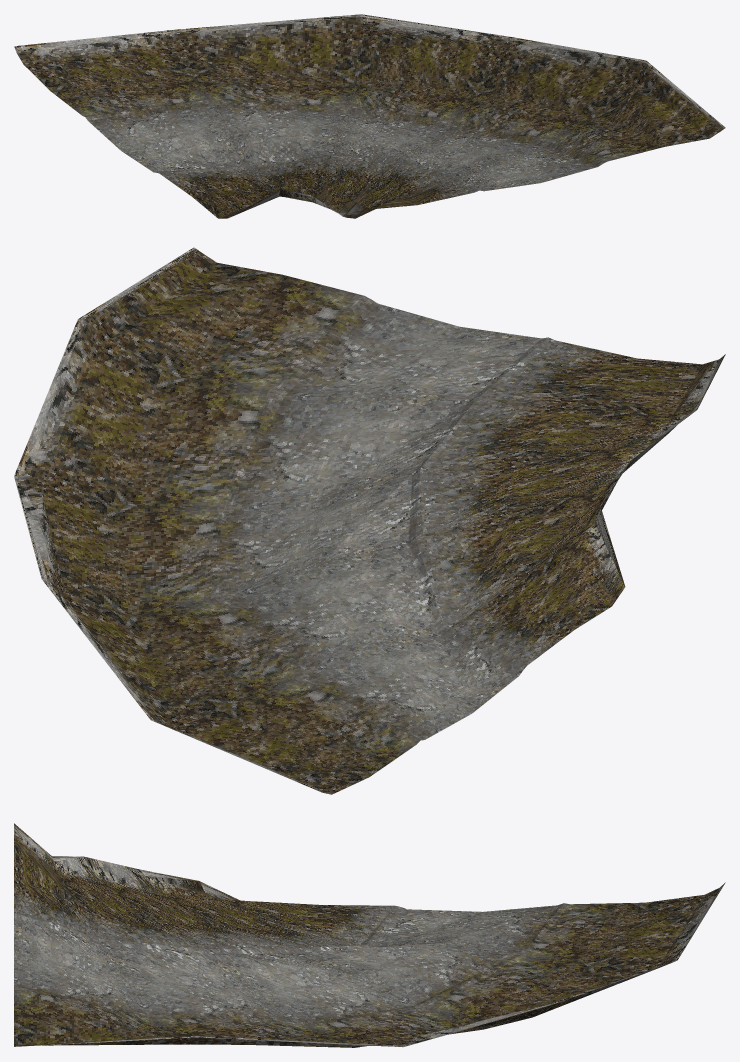
Rendered from 5_road_02_bend.glb.
3 views of the same model, one above another, from view 1: azimuth 30°, elevation 25°; view 2: azimuth 150°, elevation 25°; view 3: azimuth 270°, elevation 25° (orthographic). The views are drawn at different scales.
Visible parts, largest first — view 1: 5_road_02_bend; view 2: 5_road_02_bend; view 3: 5_road_02_bend.
Part boxes in pixels (x1=…): 5_road_02_bend: x1=14, y1=14, x2=725, y2=218; 5_road_02_bend: x1=14, y1=247, x2=725, y2=794; 5_road_02_bend: x1=14, y1=823, x2=725, y2=1047.
Size of the model in its own units: 29.19 by 6.44 by 39.55.
1 material, 1 textured.
